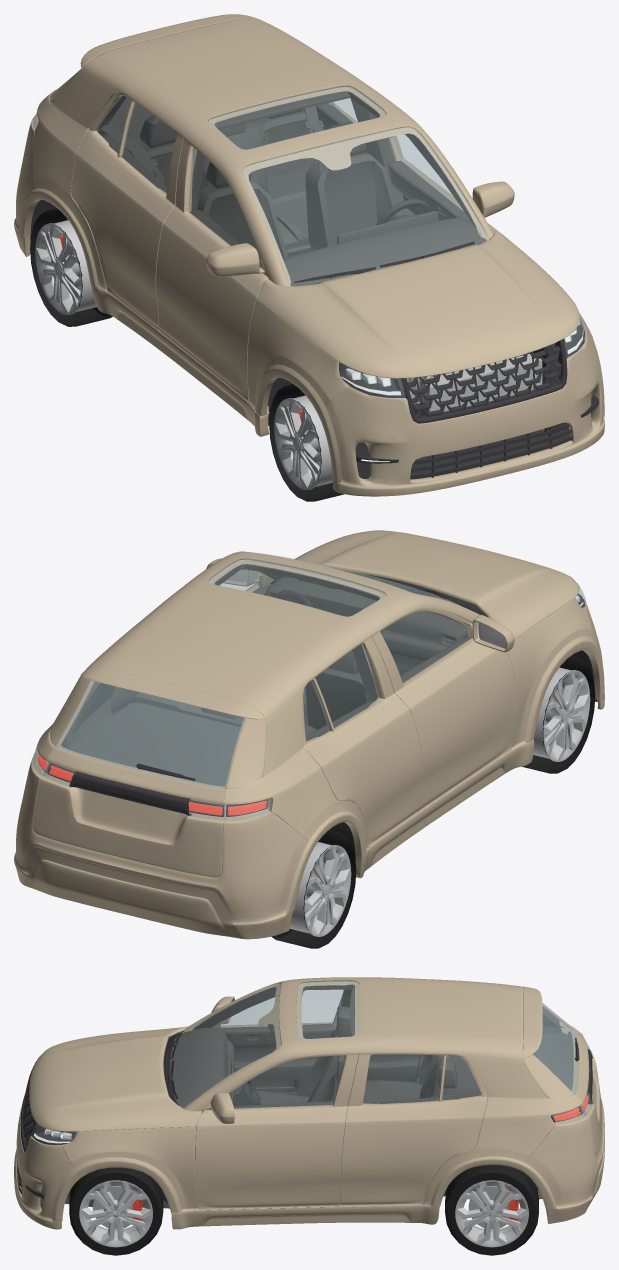
Rendered from garilla-rig-suv.glb.
3 views of the same model, one above another, from view 1: azimuth 30°, elevation 25°; view 2: azimuth 150°, elevation 25°; view 3: azimuth 270°, elevation 25° (orthographic). The views are drawn at different scales.
Visible parts, largest first — view 1: body__shell, body__glass, body__interior, body__hood, body__bumper_front, body__door_fr, body__door_rr, body__fender_r, wheel__rr, wheel__fr, body__door_fl, frame__floor (+5 smaller); view 2: body__shell, body__trunk, body__bumper_rear, body__interior, body__door_fr, body__door_rr, body__hood, body__fender_r, body__glass, wheel__rr, wheel__fr, body__door_fl; view 3: body__shell, body__door_fl, body__door_rl, body__hood, body__interior, body__glass, body__fender_l, wheel__rl, body__trunk, wheel__fl, body__door_fr, body__bumper_rear (+5 smaller).
Boxes of the visible parts, x1=… form: body__shell: x1=18, y1=18, x2=493, y2=436; body__glass: x1=208, y1=86, x2=487, y2=285; body__interior: x1=97, y1=91, x2=486, y2=286; body__hood: x1=257, y1=225, x2=579, y2=378; body__bumper_front: x1=325, y1=328, x2=604, y2=496; body__door_fr: x1=155, y1=137, x2=268, y2=401; body__door_rr: x1=71, y1=92, x2=183, y2=331; body__fender_r: x1=247, y1=298, x2=349, y2=482; wheel__rr: x1=30, y1=208, x2=112, y2=326; wheel__fr: x1=269, y1=384, x2=344, y2=501; body__door_fl: x1=388, y1=134, x2=514, y2=225; frame__floor: x1=30, y1=199, x2=592, y2=479; body__shell: x1=33, y1=551, x2=534, y2=913; body__trunk: x1=33, y1=668, x2=266, y2=877; body__bumper_rear: x1=14, y1=754, x2=308, y2=939; body__interior: x1=61, y1=564, x2=467, y2=817; body__door_fr: x1=371, y1=607, x2=515, y2=811; body__door_rr: x1=302, y1=635, x2=422, y2=847; body__hood: x1=294, y1=530, x2=579, y2=638; body__fender_r: x1=508, y1=597, x2=604, y2=750; body__glass: x1=208, y1=553, x2=488, y2=617; wheel__rr: x1=271, y1=830, x2=356, y2=948; wheel__fr: x1=522, y1=656, x2=595, y2=773; body__door_fl: x1=206, y1=558, x2=274, y2=595; body__shell: x1=171, y1=977, x2=586, y2=1229; body__door_fl: x1=195, y1=1053, x2=358, y2=1210; body__door_rl: x1=340, y1=1053, x2=487, y2=1206; body__hood: x1=29, y1=1026, x2=201, y2=1131; body__interior: x1=132, y1=984, x2=567, y2=1190; body__glass: x1=163, y1=980, x2=359, y2=1107; body__fender_l: x1=52, y1=1126, x2=198, y2=1221; wheel__rl: x1=445, y1=1165, x2=538, y2=1255; body__trunk: x1=522, y1=986, x2=601, y2=1156; wheel__fl: x1=69, y1=1167, x2=163, y2=1255; body__door_fr: x1=211, y1=990, x2=342, y2=1097; body__bumper_rear: x1=525, y1=1045, x2=604, y2=1224.
Bounding box in the file's own units: 1.95 × 1.56 × 4.19.
